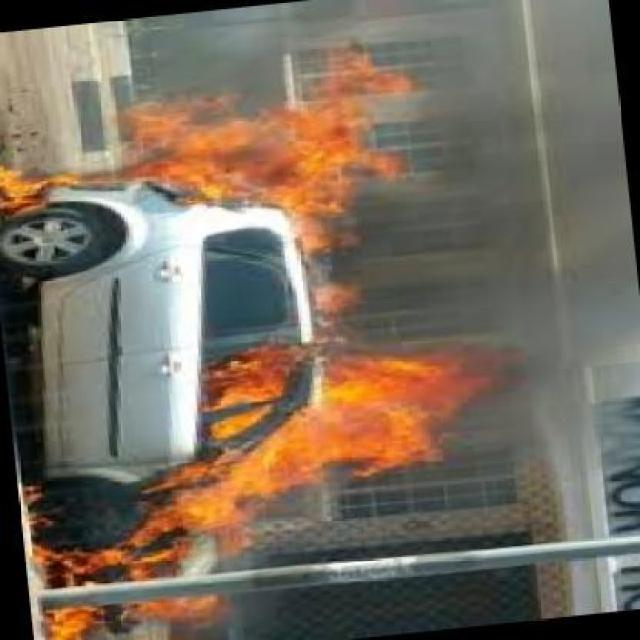Fire: (59, 334, 481, 636), (0, 60, 433, 238)
Smoke: (421, 6, 621, 363)
